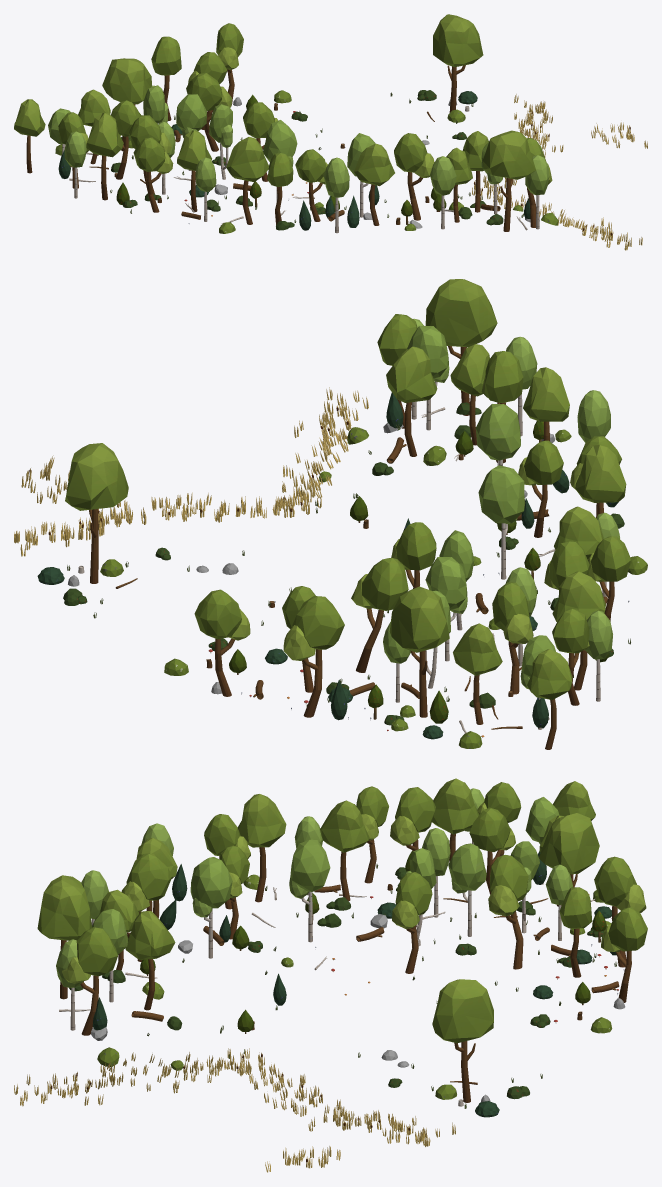
File: Foliage1.gltf
3 renders of one model, top to bottom at view 1: azimuth 30°, elevation 25°; view 2: azimuth 150°, elevation 25°; view 3: azimuth 270°, elevation 25°, orthographic. The views are drawn at different scales.
Parts seen in each view (by area): view 1: Beechtree3 - copy.018, Beechtree3 - copy.039, Beechtree3 - copy.038, Beechtree1 - copy.035, Beechtree2 - copy.013, Beechtree1 - copy.002, Beechtree1 - copy.009, Beechtree2 - copy.031, Beechtree2 - copy.024, Beechtree2 - copy.020, Beechtree2 - copy.035, Beechtree1 - copy.039 (+24 smaller); view 2: Beechtree3 - copy.018, Beechtree3 - copy.039, Beechtree3 - copy.038, Beechtree2 - copy.020, Beechtree2 - copy.024, Beechtree2 - copy.035, BirchTree3 - copy.021, Beechtree1 - copy.040, Beechtree2 - copy.023, Beechtree1 - copy.035, Beechtree1 - copy.031, BirchTree3 - copy.006 (+22 smaller); view 3: Beechtree3 - copy.018, Beechtree3 - copy.039, Beechtree3 - copy.038, Beechtree2 - copy.004, Beechtree2 - copy.024, Beechtree1 - copy.035, BirchTree3 - copy.006, BirchTree3 - copy.021, Beechtree2 - copy.020, Beechtree1 - copy.039, Beechtree1 - copy.002, Beechtree1 - copy.040 (+23 smaller).
Part boxes in pixels (x1,y1,x2,y2): Beechtree3 - copy.018: (433, 14, 483, 112); Beechtree3 - copy.039: (482, 130, 535, 231); Beechtree3 - copy.038: (102, 58, 151, 151); Beechtree1 - copy.035: (226, 137, 268, 224); Beechtree2 - copy.013: (394, 133, 434, 220); Beechtree1 - copy.002: (86, 113, 123, 200); Beechtree1 - copy.009: (354, 143, 394, 225); Beechtree2 - copy.031: (133, 137, 173, 212); Beechtree2 - copy.024: (186, 73, 232, 151); Beechtree2 - copy.020: (151, 36, 181, 120); Beechtree2 - copy.035: (216, 23, 243, 104); Beechtree1 - copy.039: (177, 130, 211, 211); Beechtree3 - copy.018: (65, 443, 128, 583); Beechtree3 - copy.039: (425, 279, 497, 415); Beechtree3 - copy.038: (389, 586, 449, 717); Beechtree2 - copy.020: (283, 596, 344, 717); Beechtree2 - copy.024: (351, 558, 408, 672); Beechtree2 - copy.035: (194, 589, 250, 696); BirchTree3 - copy.021: (478, 465, 525, 579); Beechtree1 - copy.040: (386, 346, 437, 456); Beechtree2 - copy.023: (492, 582, 533, 694); Beechtree1 - copy.035: (575, 444, 626, 514); Beechtree1 - copy.031: (453, 623, 502, 724); BirchTree3 - copy.006: (475, 404, 520, 465); Beechtree3 - copy.018: (432, 979, 493, 1102); Beechtree3 - copy.039: (37, 875, 91, 999); Beechtree3 - copy.038: (539, 813, 599, 887); Beechtree2 - copy.004: (62, 927, 117, 1035); Beechtree2 - copy.024: (488, 855, 528, 969); Beechtree1 - copy.035: (238, 794, 286, 902); BirchTree3 - copy.006: (190, 857, 232, 958); BirchTree3 - copy.021: (289, 839, 330, 942); Beechtree2 - copy.020: (594, 856, 646, 967); Beechtree1 - copy.039: (320, 800, 369, 900); Beechtree1 - copy.002: (432, 778, 479, 861); Beechtree1 - copy.040: (125, 911, 175, 1010).
Size of the model in its own units: 70.3 by 17.44 by 61.67.
Materials: 36 (36 with a texture image).
